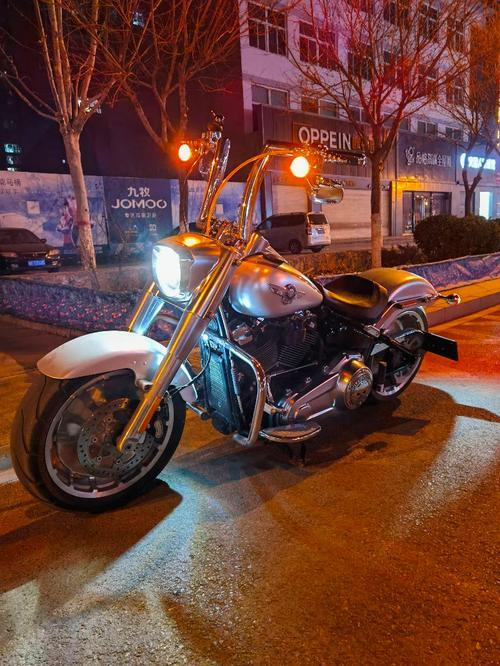摩托车: (22, 220, 450, 505)
